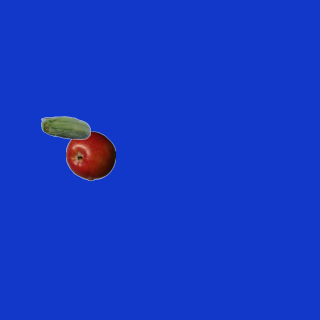Apple Braeburn: (65, 130, 115, 180)
Corn Husk: (40, 104, 90, 154)
